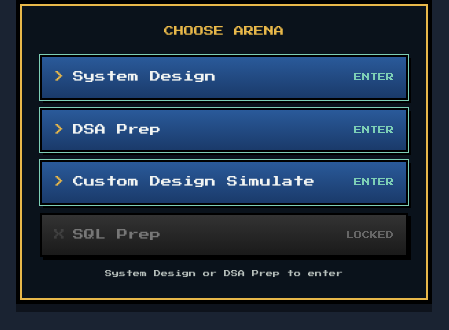
Test: ModeSelect › shows coming soon for SQL and does not navigate
The width and height of the screenshot is (449, 330).
Click the button "X SQL Prep LOCKED" at {"x": 117, "y": 234}, box [40,212,408,257]
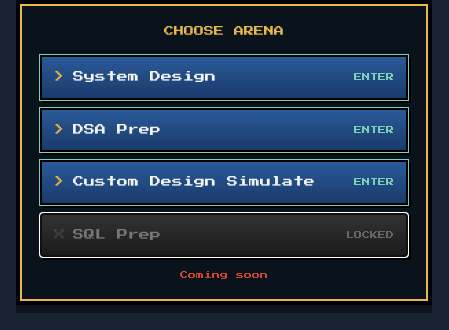
Expected: the text "Coming soon" is shown, [180,271,268,279]
